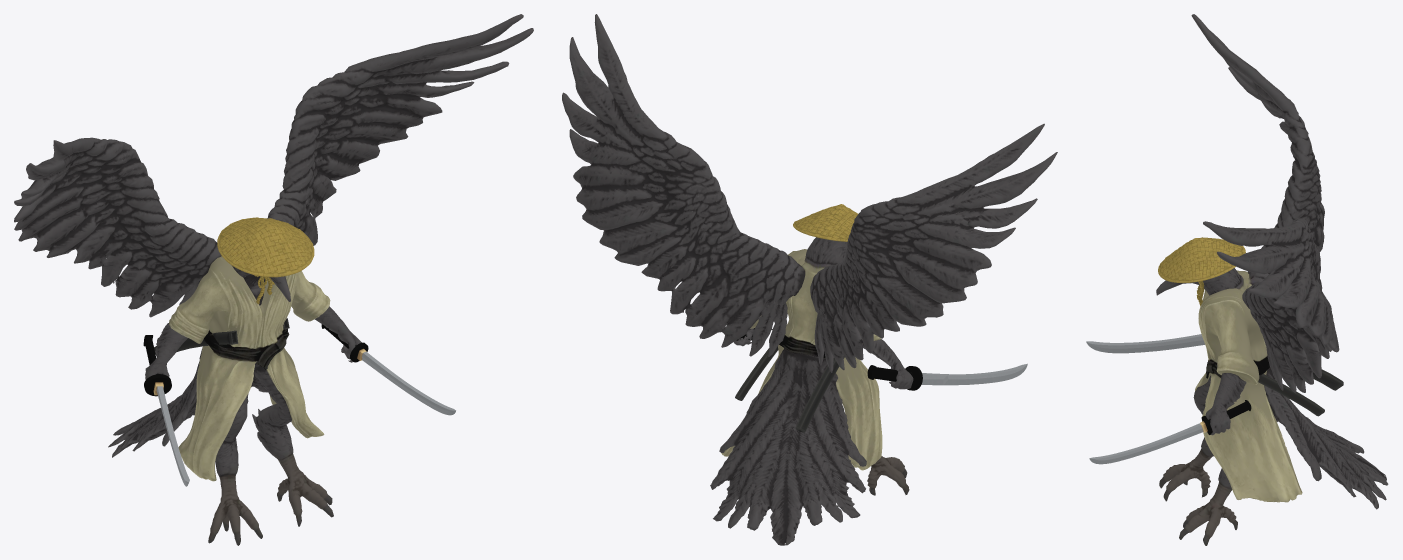
File: MZ4250 - Tengu Samurai.glb
3 views of the same model, side by side, from view 1: azimuth 30°, elevation 25°; view 2: azimuth 150°, elevation 25°; view 3: azimuth 270°, elevation 25° (orthographic). The views are drawn at different scales.
Visible parts, largest first — view 1: Cube.002; view 2: Cube.002; view 3: Cube.002.
Boxes of the visible parts, box(x1,y1,x2,y2) form: Cube.002: box(14, 14, 533, 545); Cube.002: box(562, 14, 1057, 545); Cube.002: box(1086, 14, 1388, 545).
Bounding box in the file's own units: 3.94 × 3.29 × 2.19.
6 materials, 6 textured.
